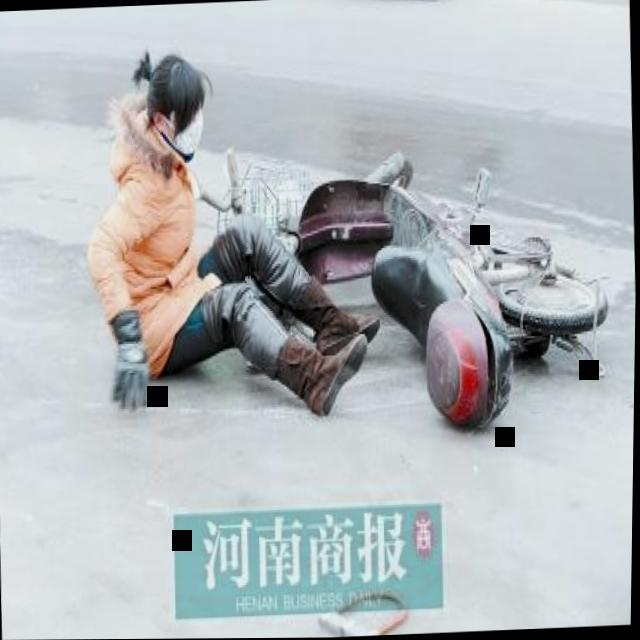Fall-Detected: (62, 26, 393, 442)
